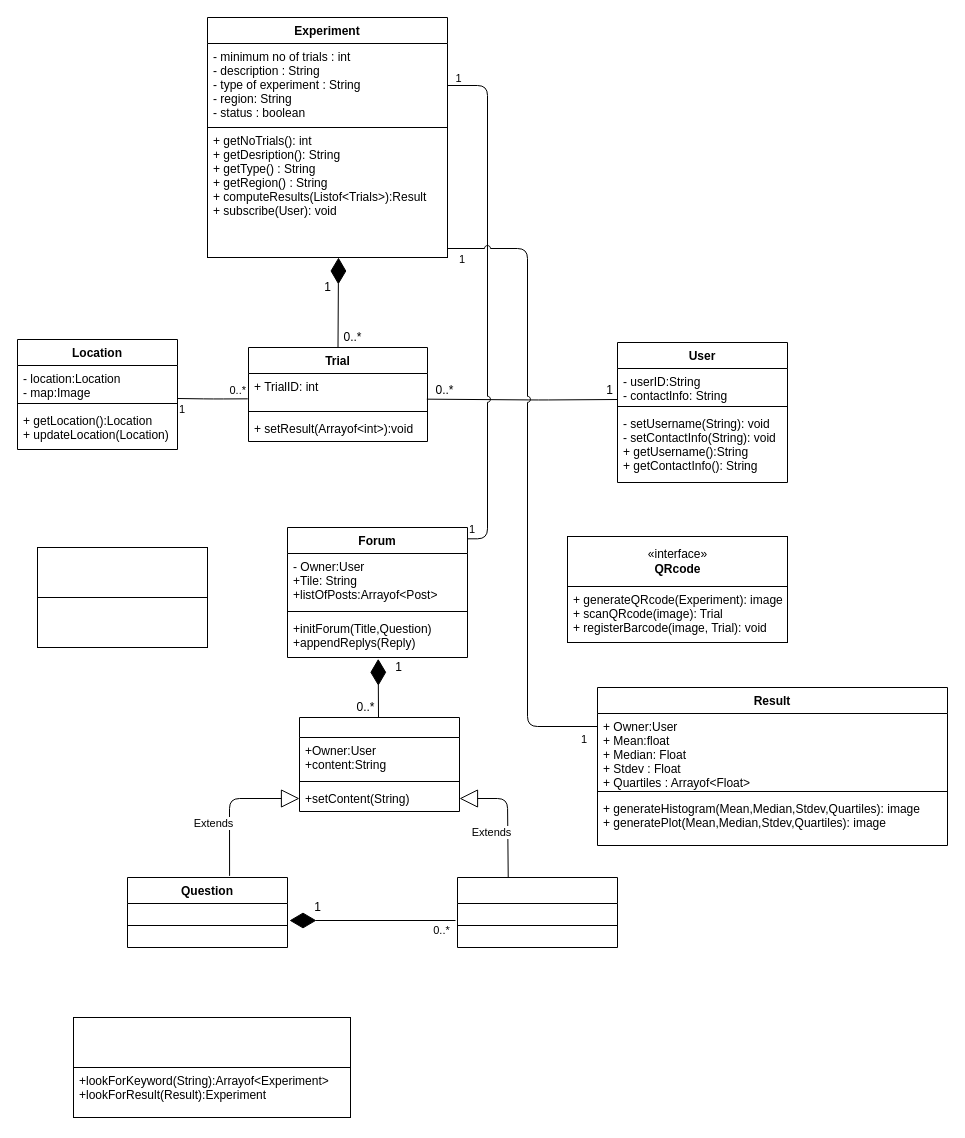
Image size: 965x1138. Some labels were removed from this diagram. Each missing label, with the box of its shape:
+ generateUserId():String - generateUser(String): User: (36, 596, 208, 648)
Post: (298, 716, 460, 812)
Reply: (456, 876, 618, 948)
«interface» CreateUser: (36, 546, 208, 598)
«interface» Search: (72, 1016, 350, 1068)
